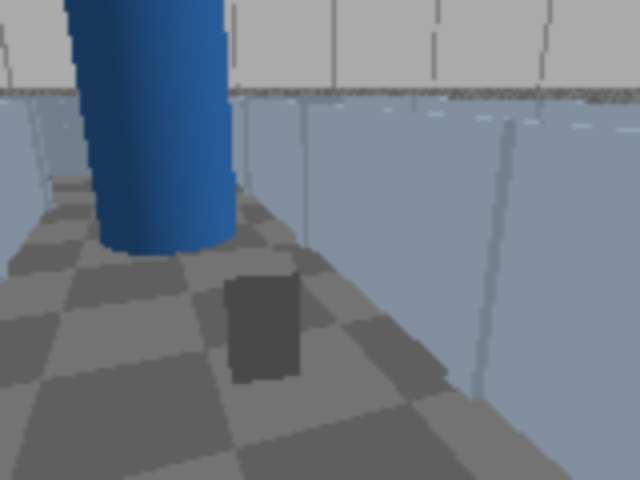obstacle: (224, 253, 300, 384)
